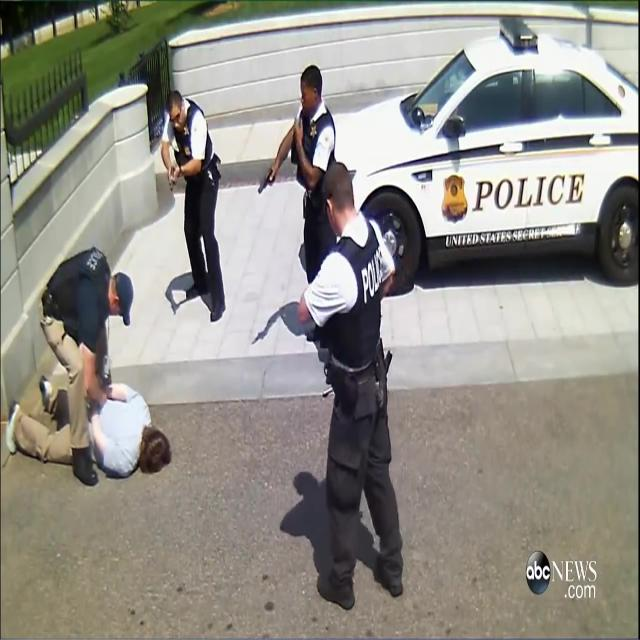Weapon: (155, 160, 206, 227), (245, 139, 278, 228)
